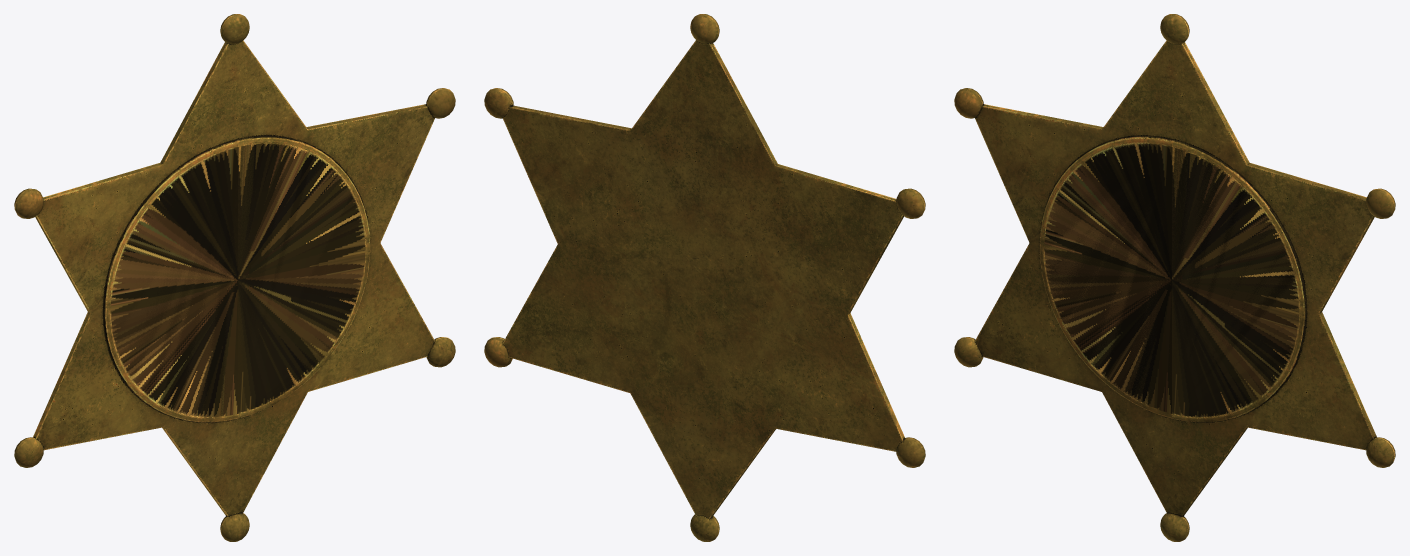
File: sheriff badge.fbx
3 views of the same model, side by side, from view 1: azimuth 30°, elevation 25°; view 2: azimuth 150°, elevation 25°; view 3: azimuth 330°, elevation 25° (orthographic).
Visible parts, largest first — view 1: Badge; view 2: Badge; view 3: Badge.
Part boxes in pixels (x1=…): Badge: x1=14, y1=14, x2=455, y2=541; Badge: x1=484, y1=14, x2=925, y2=541; Badge: x1=954, y1=14, x2=1395, y2=541.
Size of the model in its own units: 456 by 522 by 16.9.
Materials: 1 (1 with a texture image).
